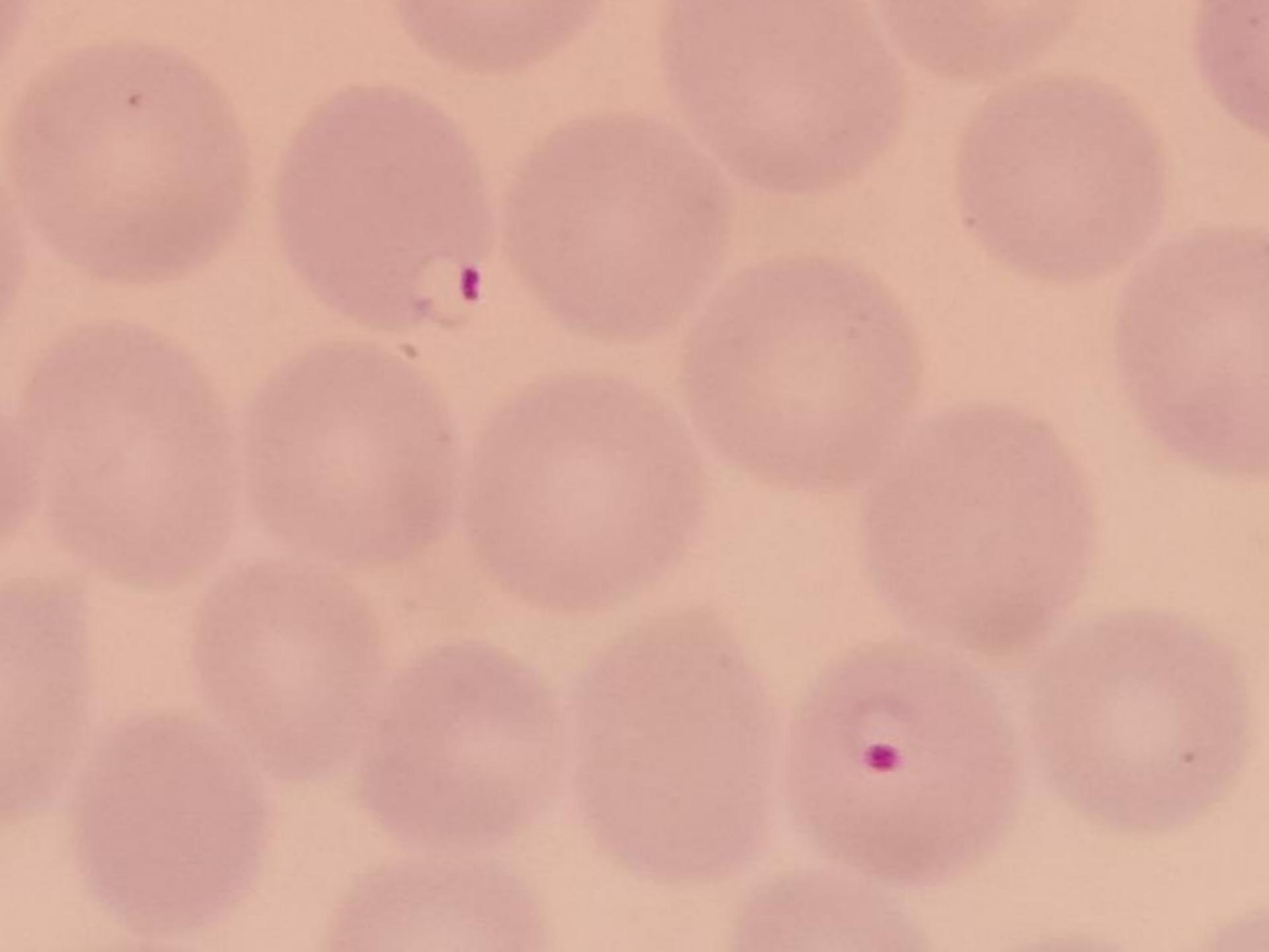Infected: (276, 83, 494, 337), (790, 653, 1014, 886)
Uninfected: (10, 317, 230, 584), (18, 38, 250, 279), (859, 407, 1088, 649), (466, 375, 703, 607), (686, 253, 913, 481), (575, 621, 779, 874), (509, 113, 728, 343), (1028, 611, 1249, 835), (246, 337, 456, 567), (653, 0, 900, 190), (344, 648, 570, 850), (192, 568, 386, 785), (962, 76, 1165, 279), (67, 714, 266, 917), (1110, 227, 1269, 470)
